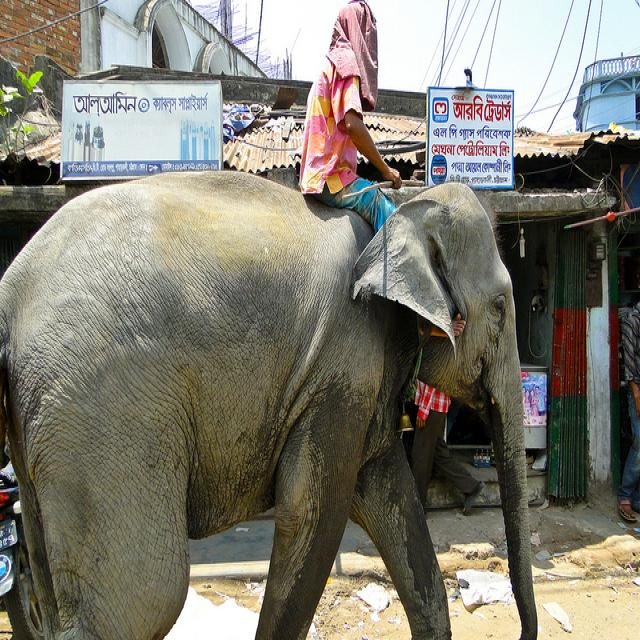motor: (1, 463, 43, 640)
